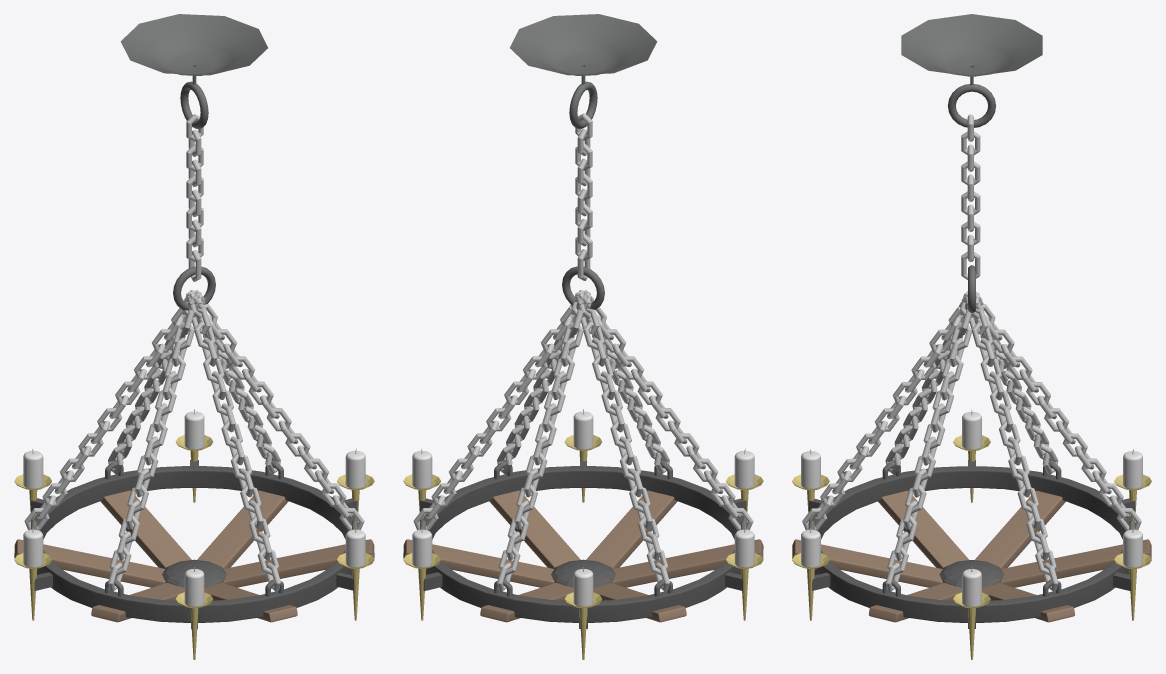
File: mainRoom_chandelier.fbx
The picture shows the model from 3 angles, left to right: view 1: azimuth 30°, elevation 25°; view 2: azimuth 150°, elevation 25°; view 3: azimuth 270°, elevation 25°; orthographic projection.
Parts seen in each view (by area): view 1: chandelier; view 2: chandelier; view 3: chandelier.
Part boxes in pixels (x1,y1,x2,y2): chandelier: [14, 14, 374, 659]; chandelier: [403, 14, 763, 659]; chandelier: [792, 14, 1151, 659].
Size of the model in its own units: 25.2 by 37.05 by 22.13.
